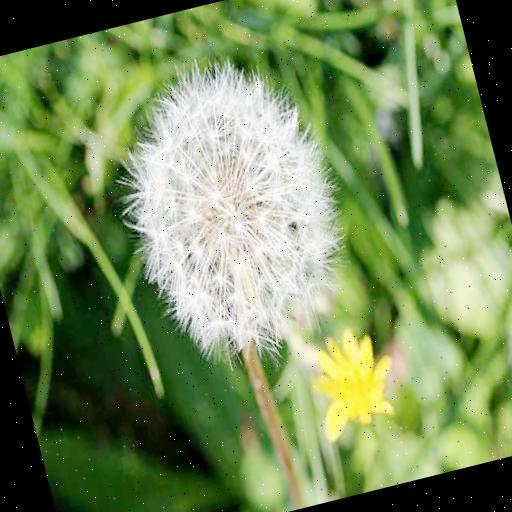dandelion: (104, 48, 362, 366)
